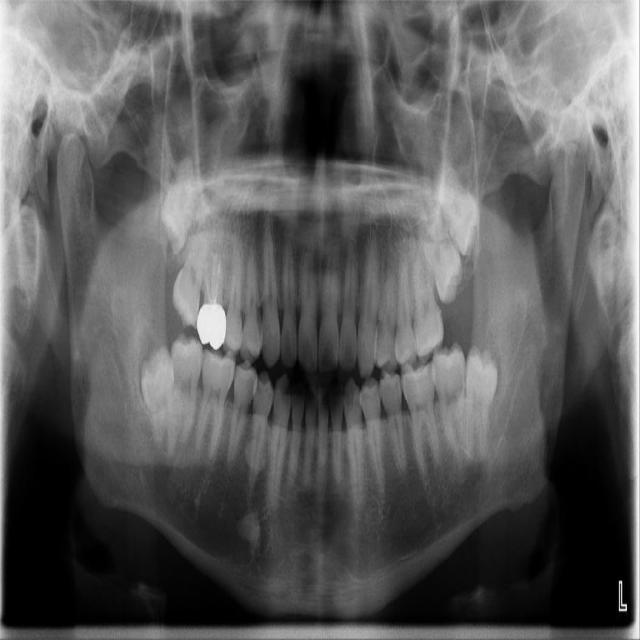3M ESPE Implant: (153, 155, 203, 257)
52: (197, 304, 227, 350)
73: (199, 255, 225, 316), (616, 622, 628, 628)
BioHorizons Implant: (410, 208, 476, 307)
BioLife Implant: (426, 165, 495, 259)
Biomet 3i Implant: (464, 344, 499, 461)
Blue Sky Bio Implant: (431, 342, 468, 460)
Caries: (168, 226, 213, 328)
Implant: (158, 334, 206, 457)
Keystone Dental Implant: (140, 345, 179, 457)
